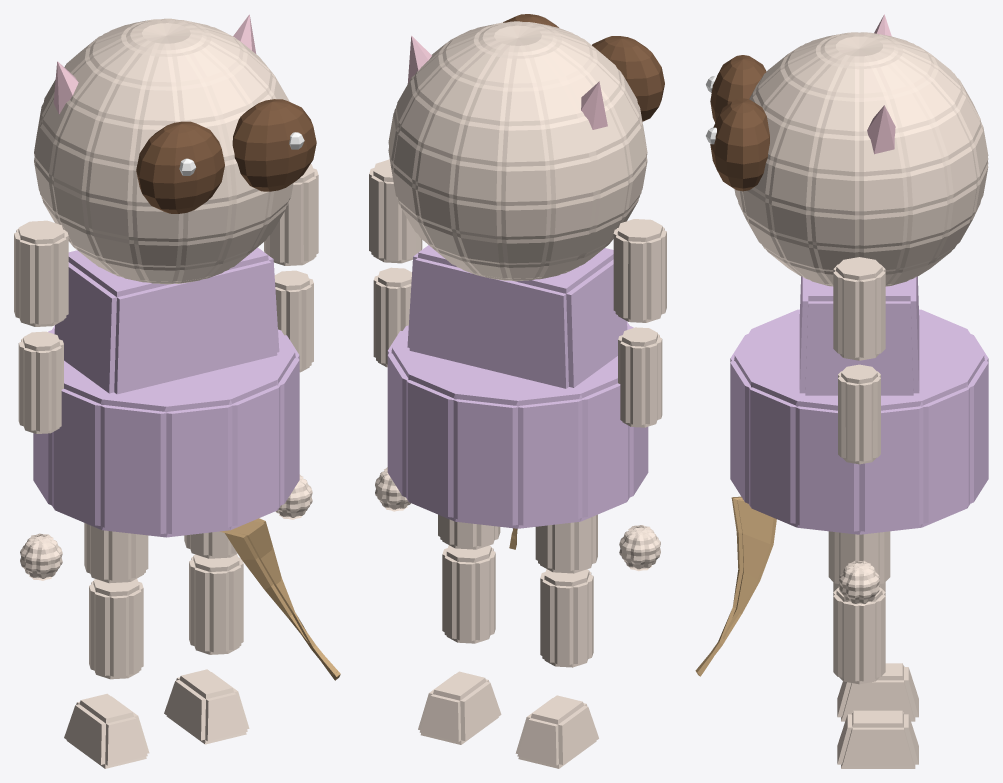
The picture shows the model from 3 angles, left to right: view 1: azimuth 30°, elevation 25°; view 2: azimuth 150°, elevation 25°; view 3: azimuth 270°, elevation 25°; orthographic projection. The views are drawn at different scales.
Parts seen in each view (by area): view 1: Body, Clothing, Eyes, Tail, Cat_Ears; view 2: Body, Clothing, Eyes, Cat_Ears; view 3: Body, Clothing, Eyes, Tail, Cat_Ears.
Part boxes in pixels (x1,y1,x2,y2): Body: (14, 18, 318, 768); Clothing: (33, 247, 299, 537); Eyes: (136, 99, 316, 213); Tail: (220, 518, 340, 680); Cat_Ears: (53, 14, 256, 114); Body: (369, 21, 666, 768); Clothing: (387, 245, 648, 528); Eyes: (503, 14, 664, 121); Cat_Ears: (407, 35, 607, 129); Body: (734, 32, 988, 768); Clothing: (730, 276, 988, 534); Eyes: (710, 55, 769, 191); Tail: (695, 496, 776, 676); Cat_Ears: (867, 14, 895, 154).
Size of the model in its own units: 0.7123 by 1.63 by 0.6288.
